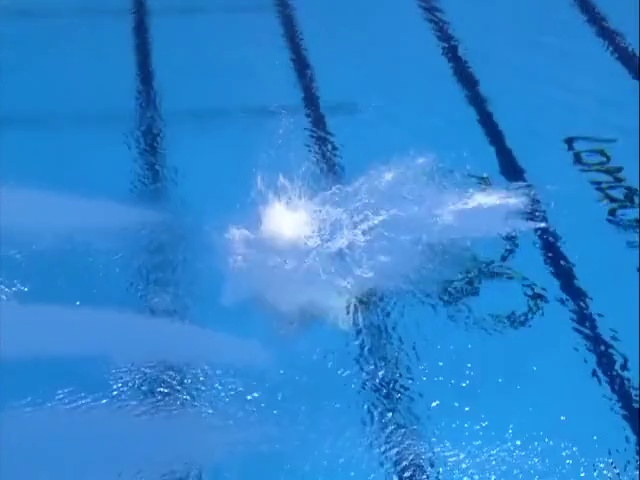splash: (226, 176, 369, 262), (446, 187, 540, 216)
